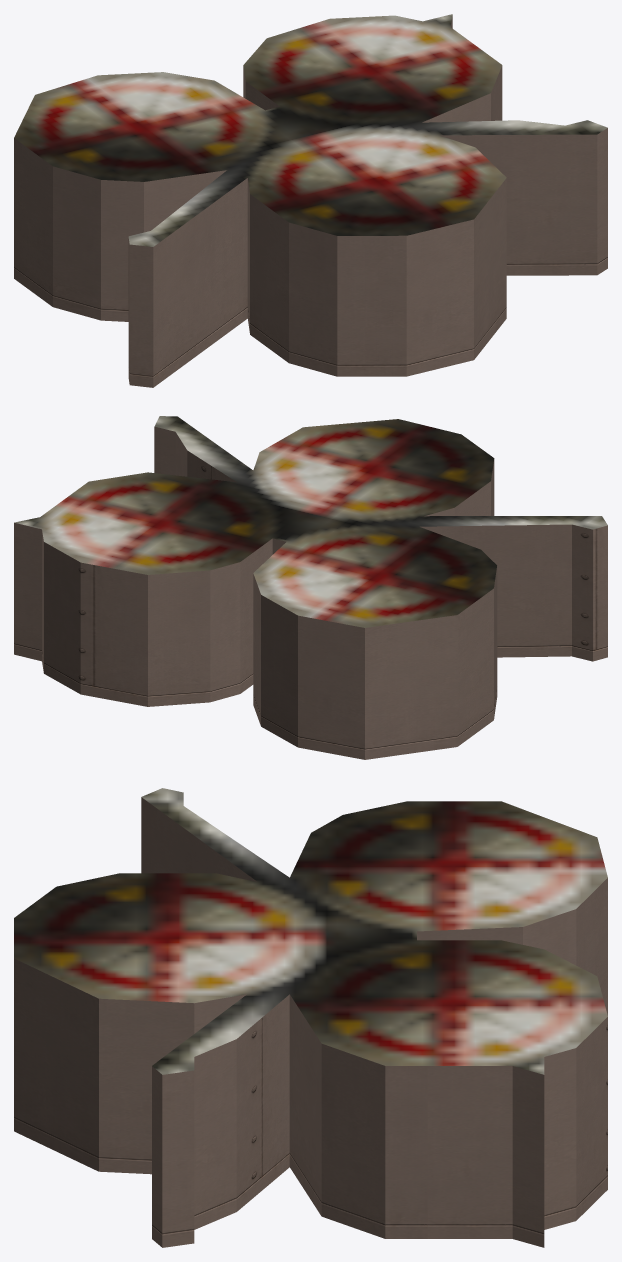
The model's file is fuel_tank_medium_22.glb.
3 views of the same model, one above another, from view 1: azimuth 30°, elevation 25°; view 2: azimuth 150°, elevation 25°; view 3: azimuth 270°, elevation 25° (orthographic). The views are drawn at different scales.
Parts seen in each view (by area): view 1: buildings/saxarba/fuel_tanks/fuel_tank_medium_22; view 2: buildings/saxarba/fuel_tanks/fuel_tank_medium_22; view 3: buildings/saxarba/fuel_tanks/fuel_tank_medium_22.
Boxes of the visible parts, x1,y1,x2,y2 form: buildings/saxarba/fuel_tanks/fuel_tank_medium_22: [14, 14, 607, 387]; buildings/saxarba/fuel_tanks/fuel_tank_medium_22: [14, 416, 607, 759]; buildings/saxarba/fuel_tanks/fuel_tank_medium_22: [14, 788, 607, 1247].
Size of the model in its own units: 64 by 18 by 56.
